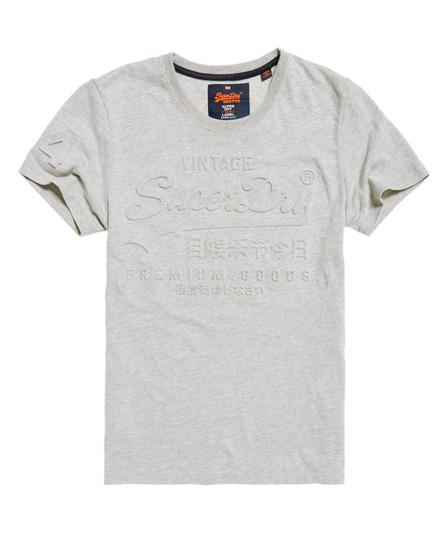teeshirt: (25, 34, 431, 504)
